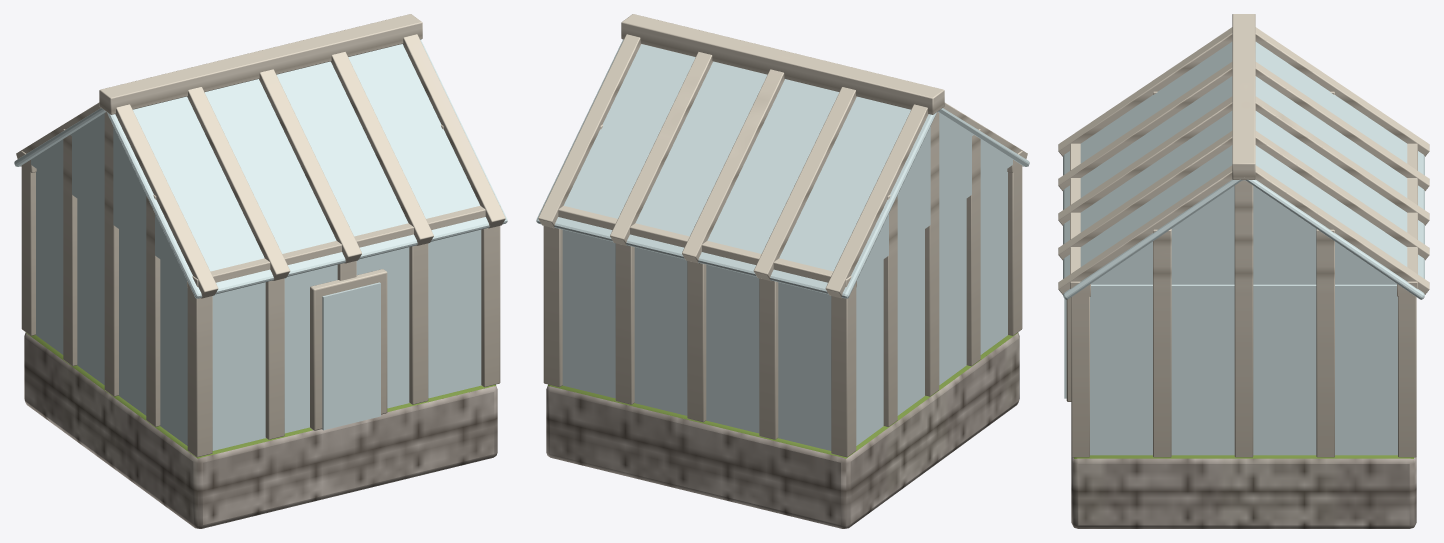
File: unlock-greenhouse-ha.glb
3 views of the same model, side by side, from view 1: azimuth 30°, elevation 25°; view 2: azimuth 150°, elevation 25°; view 3: azimuth 270°, elevation 25° (orthographic).
Visible parts, largest first — view 1: unlock-greenhouse-static; view 2: unlock-greenhouse-static; view 3: unlock-greenhouse-static.
Part boxes in pixels (x1,y1,x2,y2): unlock-greenhouse-static: (14, 14, 507, 528); unlock-greenhouse-static: (536, 14, 1029, 528); unlock-greenhouse-static: (1058, 14, 1429, 528).
Bounding box in the file's own units: 0.76 × 0.875 × 0.7963.
Materials: 14 (8 with a texture image).
